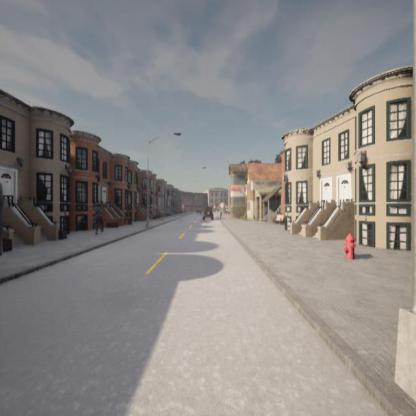person: (92, 207, 104, 236)
